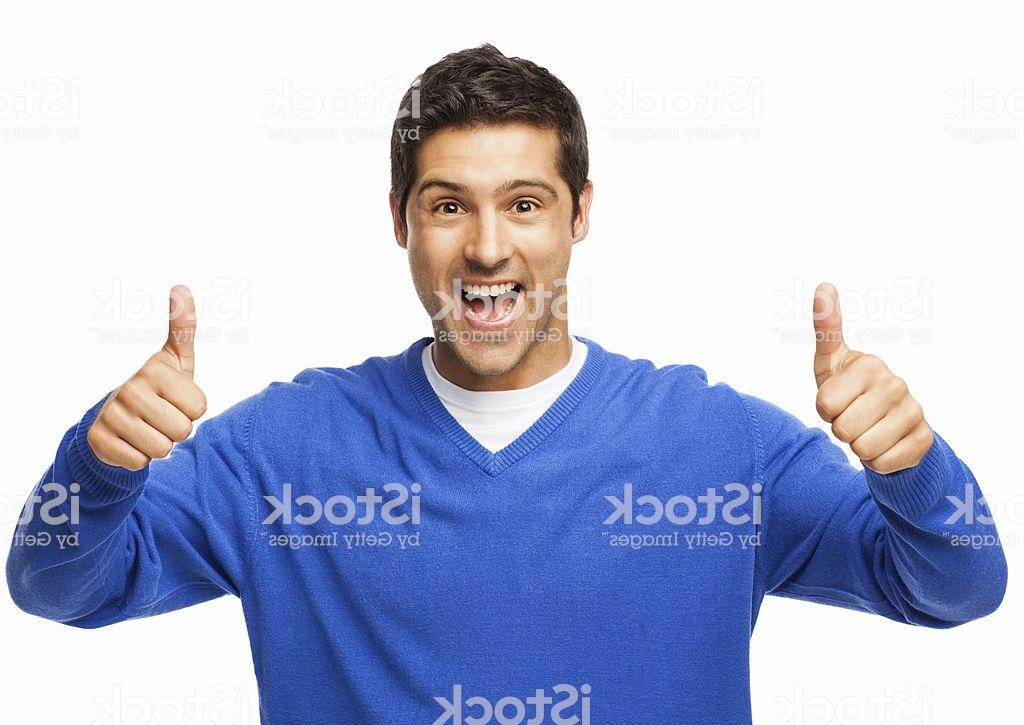thumbsup: (813, 282, 934, 474), (88, 284, 208, 471)
